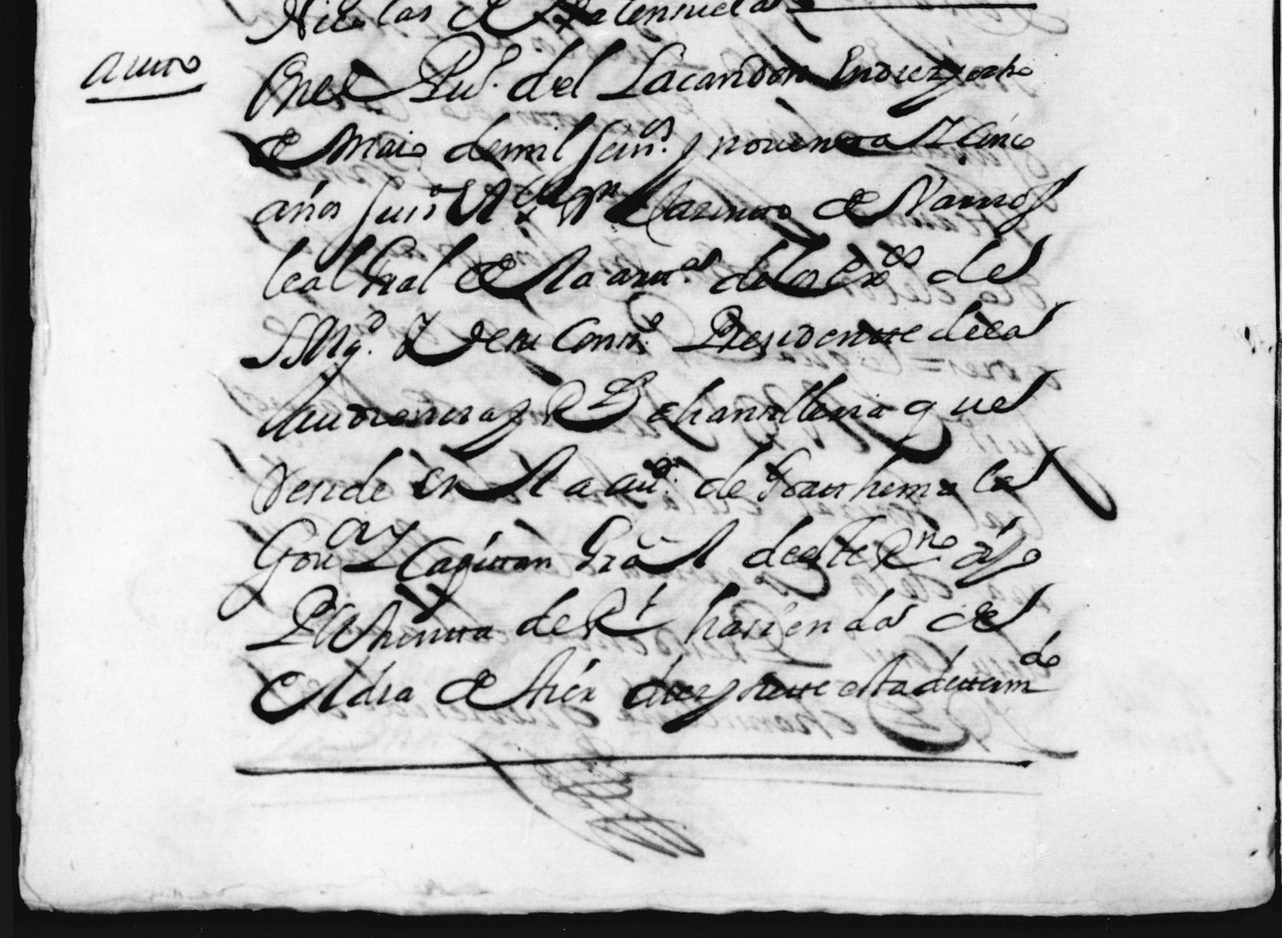lacandon: (596, 41, 809, 100)
